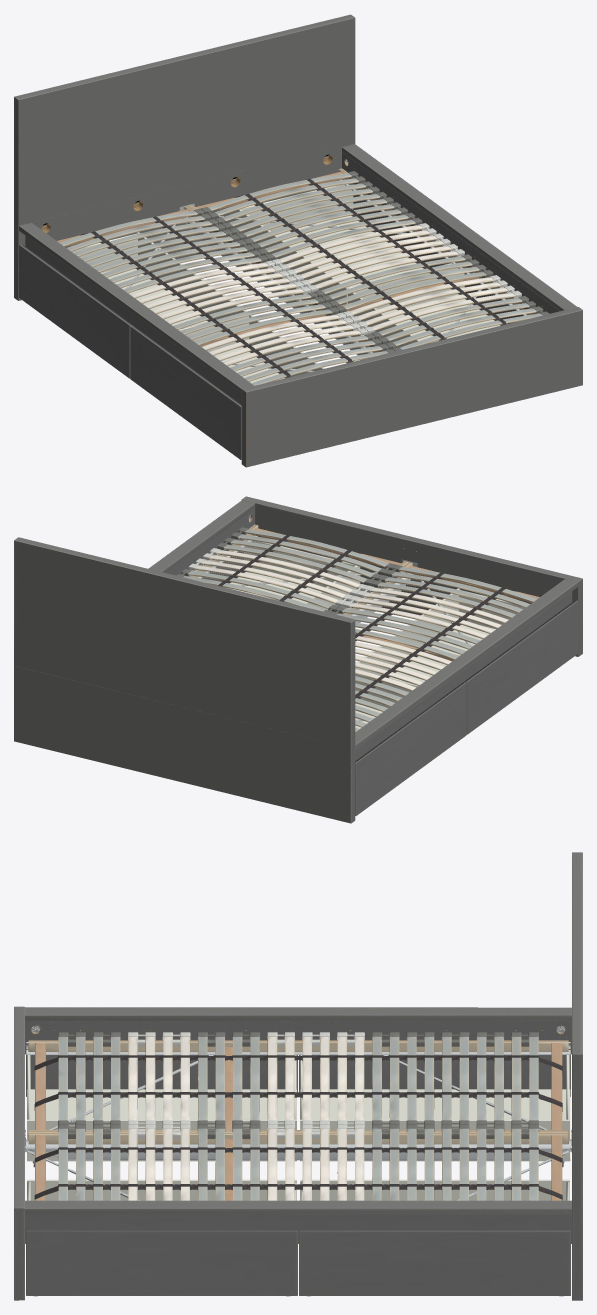
File: MALM_79175983.glb
The picture shows the model from 3 angles, top to bottom: view 1: azimuth 30°, elevation 25°; view 2: azimuth 150°, elevation 25°; view 3: azimuth 270°, elevation 25°; orthographic projection. The views are drawn at different scales.
Visible parts, largest first — view 1: Mesh_0; view 2: Mesh_0; view 3: Mesh_0.
Part boxes in pixels (bbox=[...]): Mesh_0: bbox=[14, 14, 582, 467]; Mesh_0: bbox=[14, 496, 582, 823]; Mesh_0: bbox=[14, 852, 582, 1300].
Bounding box in the file's own units: 1.75 × 1.01 × 2.09.
1 material, 1 textured.
